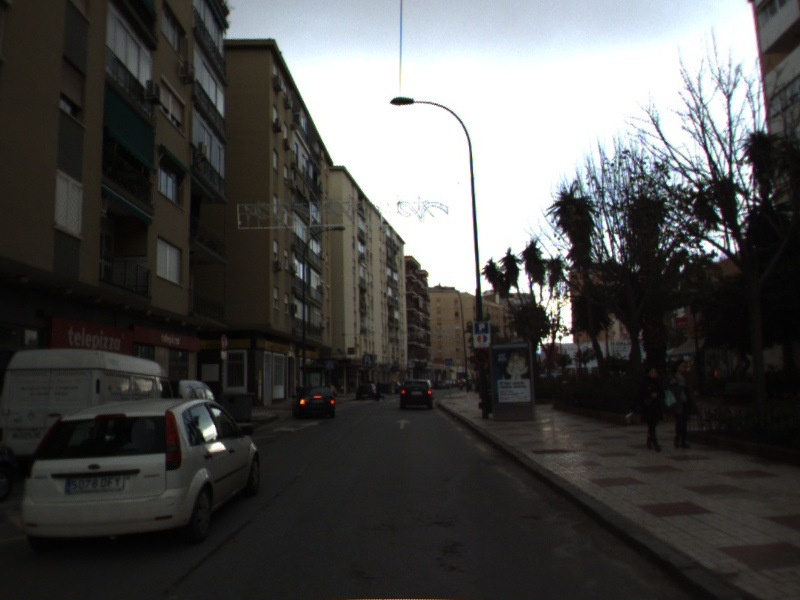STRAIGHT: (393, 418, 413, 431)
STRAIGHT_LEFT: (270, 419, 322, 434)
